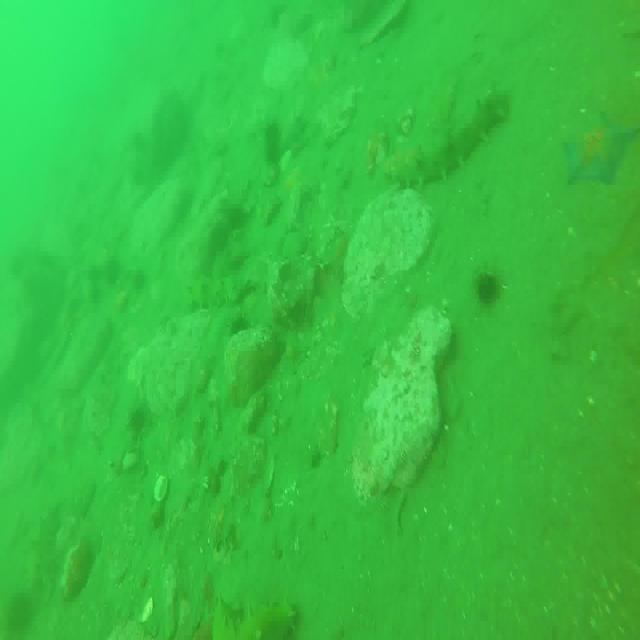echinus: (474, 267, 504, 307)
holothurian: (397, 90, 512, 189), (230, 603, 301, 640)
scallop: (153, 474, 170, 504)
starfish: (564, 116, 637, 184)
